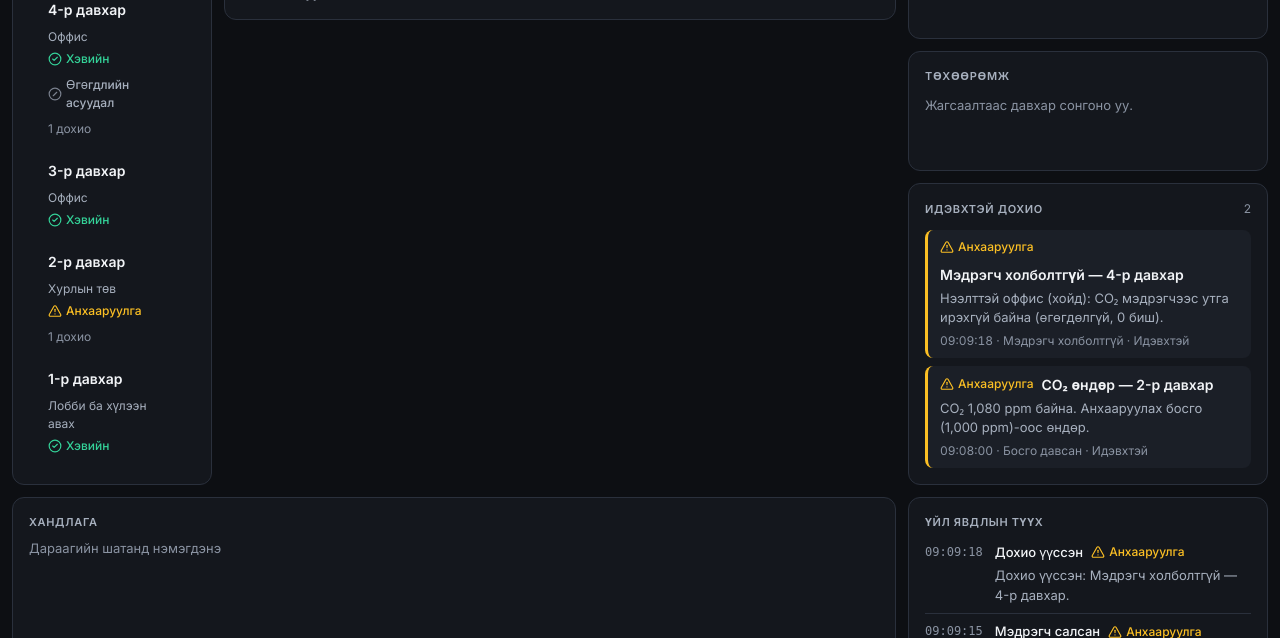
Test: Dashboard — жишээ snapshot-оор › сонгосон давхрын төхөөрөмж SF → EF → OAD дарааллаар, Монгол шошготой, зөвхөн харах
(page scrolled)
Click the option "2-р давхар Хурлын төв Анхааруулга 1 дохио". click: coordinates (95, 298)
box: 48,253 -> 142,344
(page scrolled)
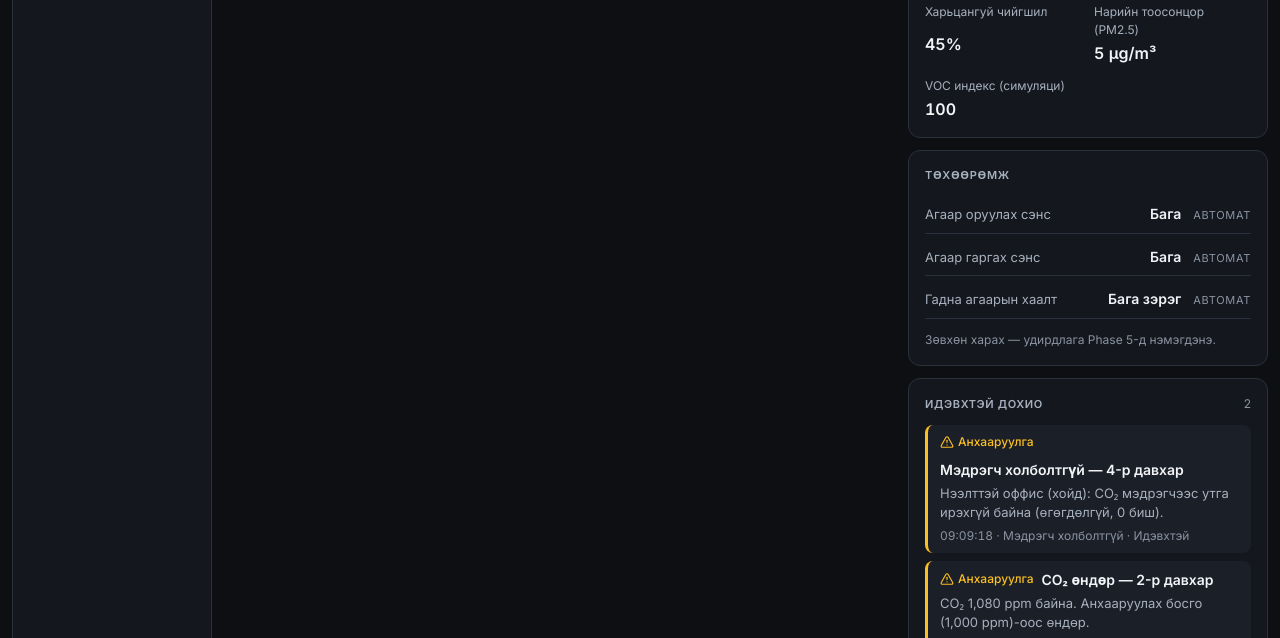
Expected: the text "Бага" is shown 2 times, 1150,203 -> 1181,224; 1150,246 -> 1181,266
Expected: the text "Бага зэрэг" is shown, 1108,288 -> 1181,309
Expected: the text "Автомат" is shown 3 times, 1193,207 -> 1251,224; 1193,250 -> 1251,266; 1193,292 -> 1251,308
